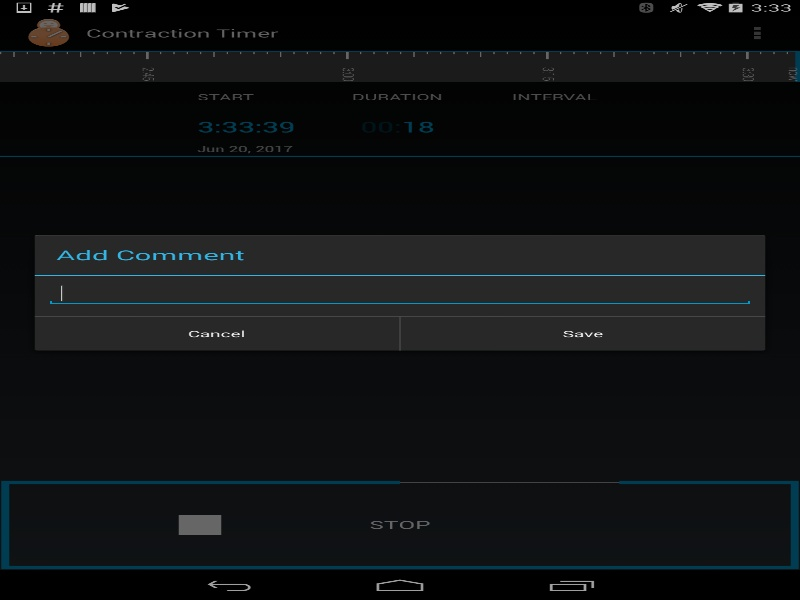Button: (34, 316, 399, 350), (400, 316, 765, 350)
Input: (45, 281, 754, 305)
